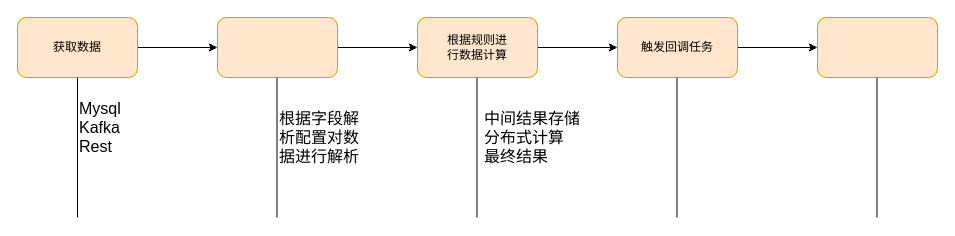
The diagram is 955 pixels wide and 236 high, and some of its shapes have lost their labels. The shapes that lost their labels are listed below. From the top down, each one's centre as x and y in pixels, then its label:
point 277,47: 解析数据
point 877,47: 任务完成
